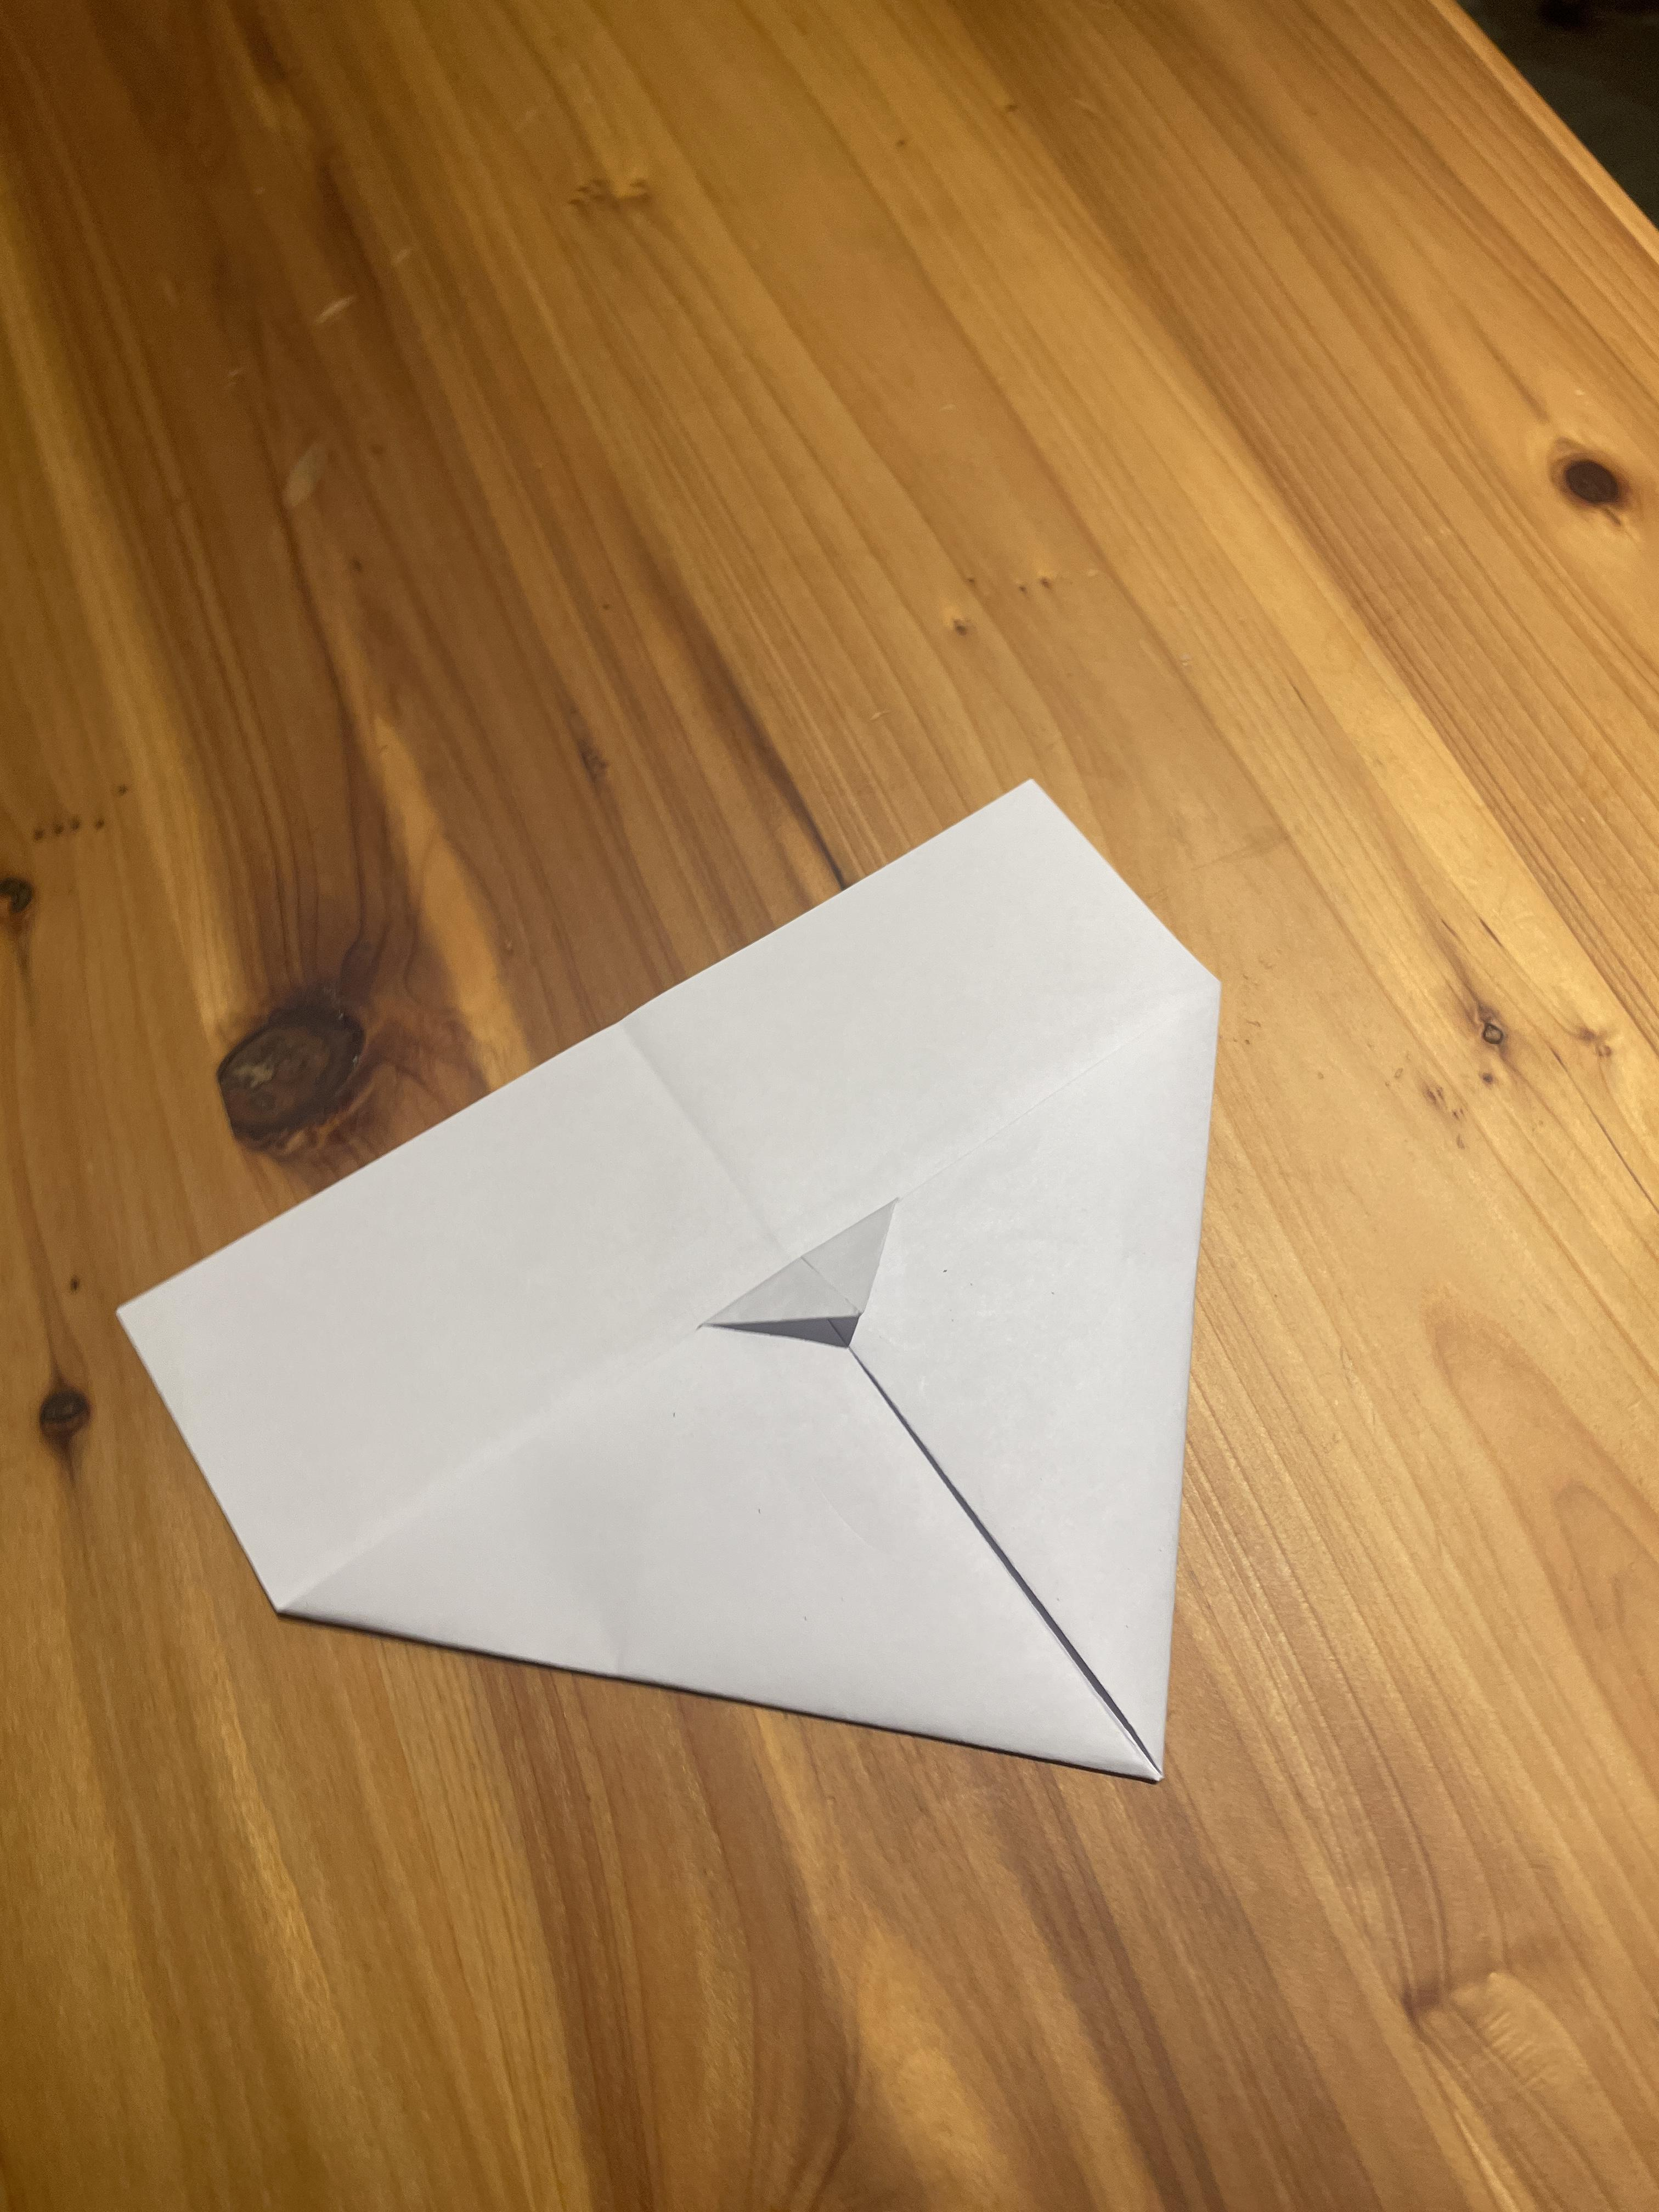shape_2: (0, 676, 1342, 1893)
